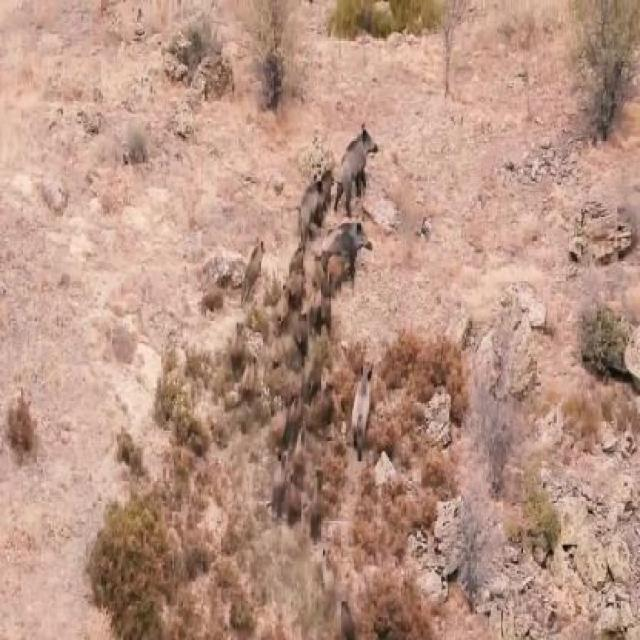Boar: (338, 123, 382, 211), (283, 172, 331, 234), (331, 217, 372, 285)
